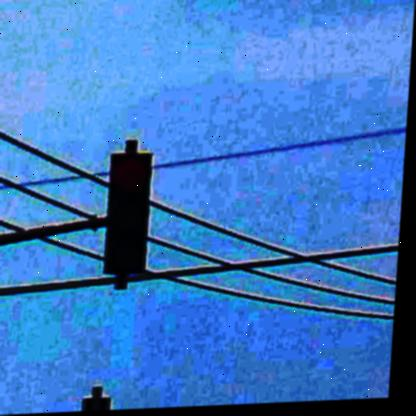Traffic Light -Red-: (107, 153, 155, 274)
